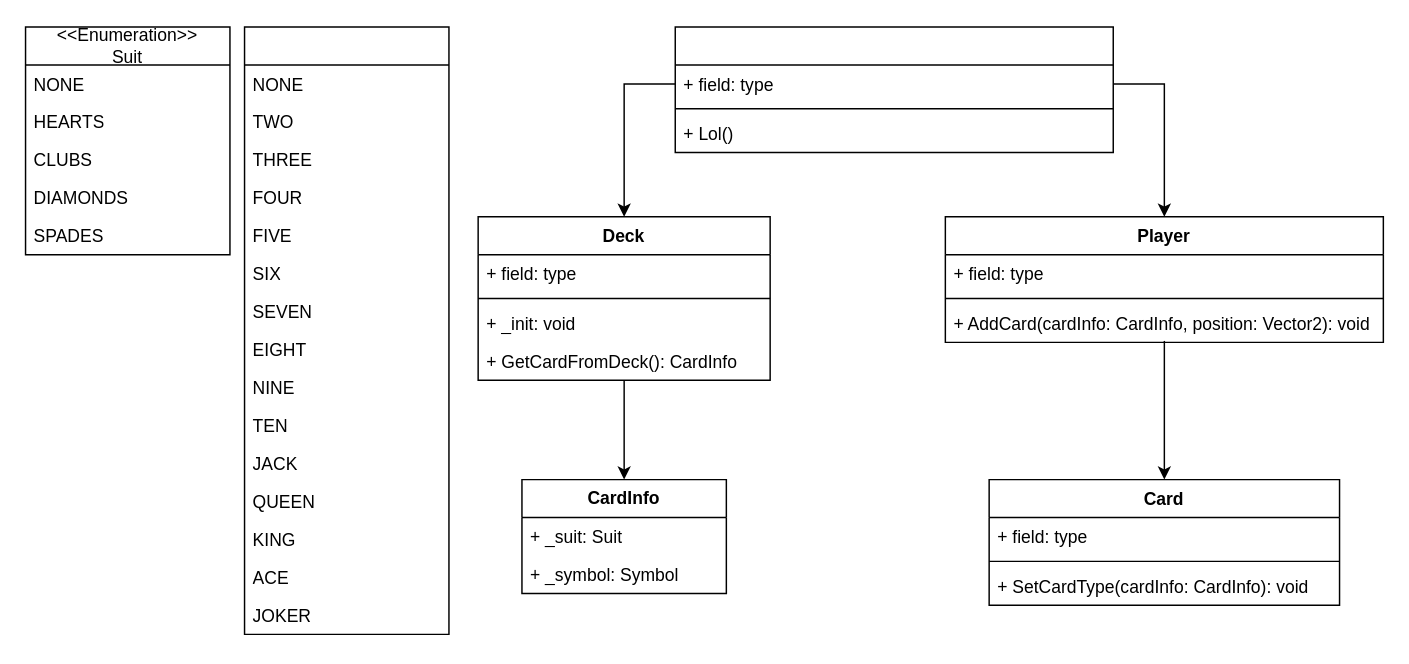
This 1409x664 diagram has some shape labels left out. The box of each missing label's shape, as (x1, y1, x2, y2) in pixels:
<<Enumeration>> Symbol: (243, 26, 449, 634)
Main: (674, 26, 1113, 153)
